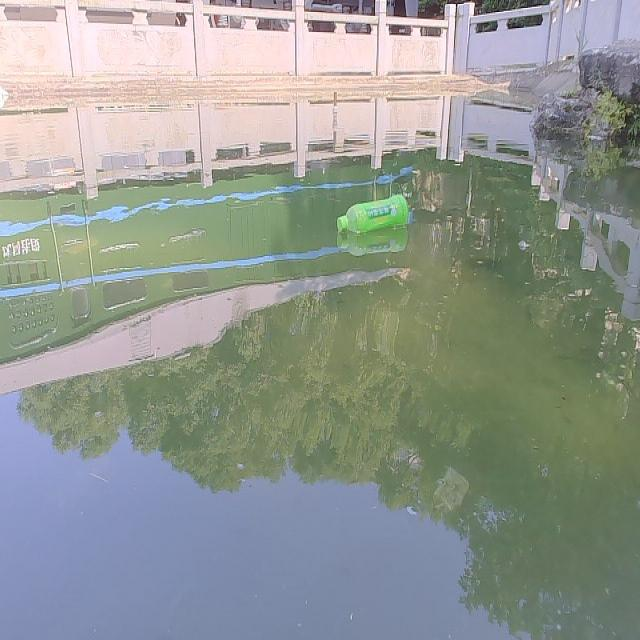bottle: (334, 193, 413, 232)
